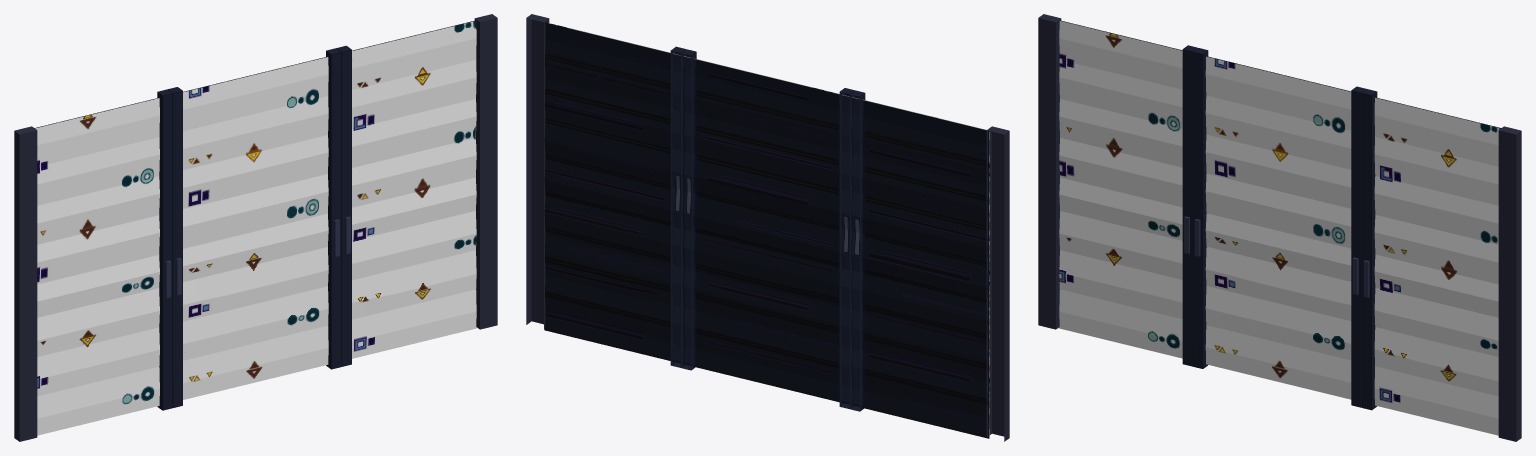
The model's file is Parede_Luzes2.fbx.
3 renders of one model, left to right at view 1: azimuth 30°, elevation 25°; view 2: azimuth 150°, elevation 25°; view 3: azimuth 330°, elevation 25°, orthographic.
Visible parts, largest first — view 1: luzes_2, pareda_2, Cube, Cube.001; view 2: pareda_2, Cube, Cube.001, luzes_2; view 3: luzes_2, pareda_2, Cube.001, Cube.
Boxes of the visible parts, left/top/right/bottom form: luzes_2: left=35, top=21, right=476, bottom=435; pareda_2: left=34, top=20, right=475, bottom=410; Cube: left=14, top=126, right=37, bottom=441; Cube.001: left=474, top=14, right=497, bottom=329; pareda_2: left=544, top=22, right=989, bottom=438; Cube: left=986, top=126, right=1009, bottom=441; Cube.001: left=526, top=14, right=549, bottom=329; luzes_2: left=546, top=22, right=989, bottom=437; luzes_2: left=1058, top=21, right=1500, bottom=435; pareda_2: left=1060, top=20, right=1501, bottom=410; Cube.001: left=1498, top=126, right=1521, bottom=441; Cube: left=1038, top=14, right=1061, bottom=329.
Size of the model in its own units: 537 by 338 by 13.14.
3 materials, 2 textured.
